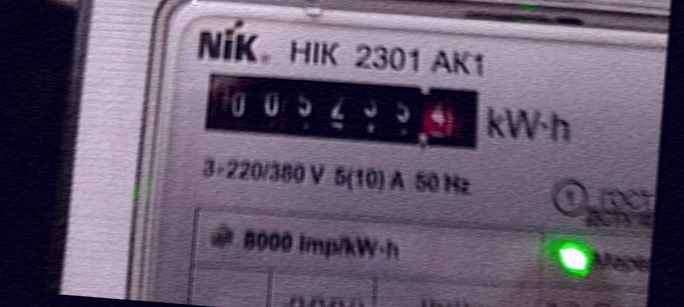0: (260, 88, 283, 122), (228, 89, 248, 122)
2: (326, 90, 350, 126)
3: (358, 91, 385, 125)
4: (427, 96, 452, 134)
5: (392, 92, 417, 130), (294, 89, 316, 123)
screen: (187, 57, 495, 168)
